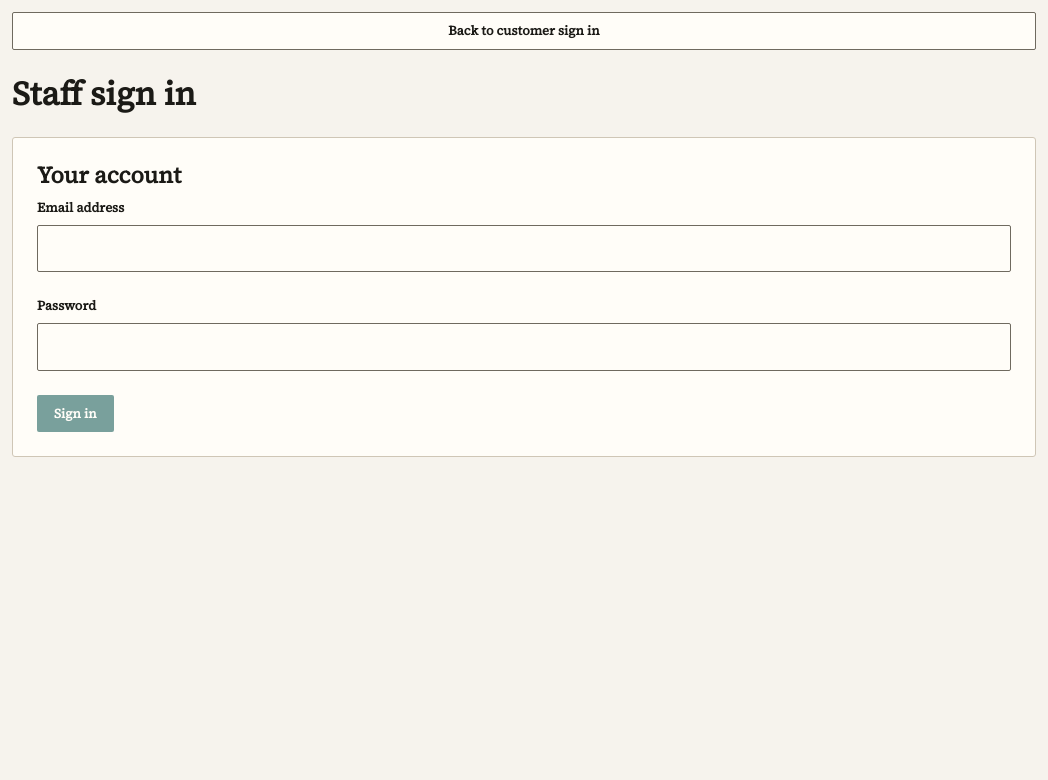
staff sign-in › asks for a code only when the server says one is needed
expect the field labelled "Six-digit code" is not shown: met
Type "admin@csas.local" into the field labelled "Email address" at (524, 248), box [37, 225, 1011, 272]
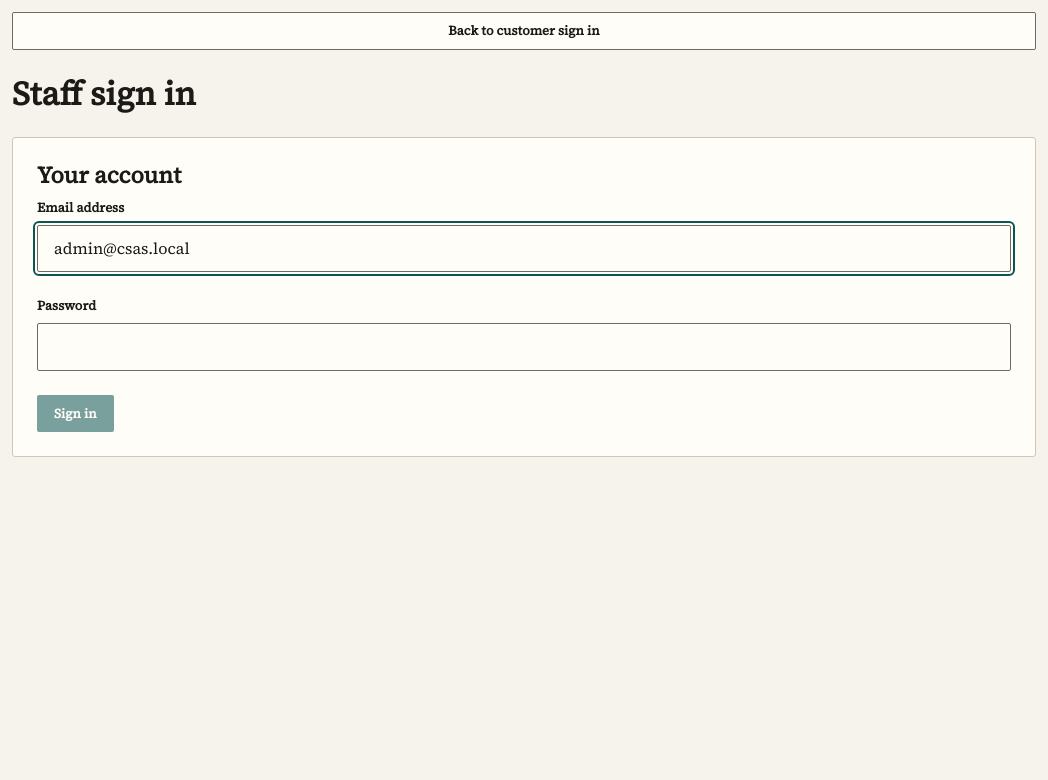
Type "a-password" into the password field labelled "Password" at (524, 347), box [37, 323, 1011, 371]
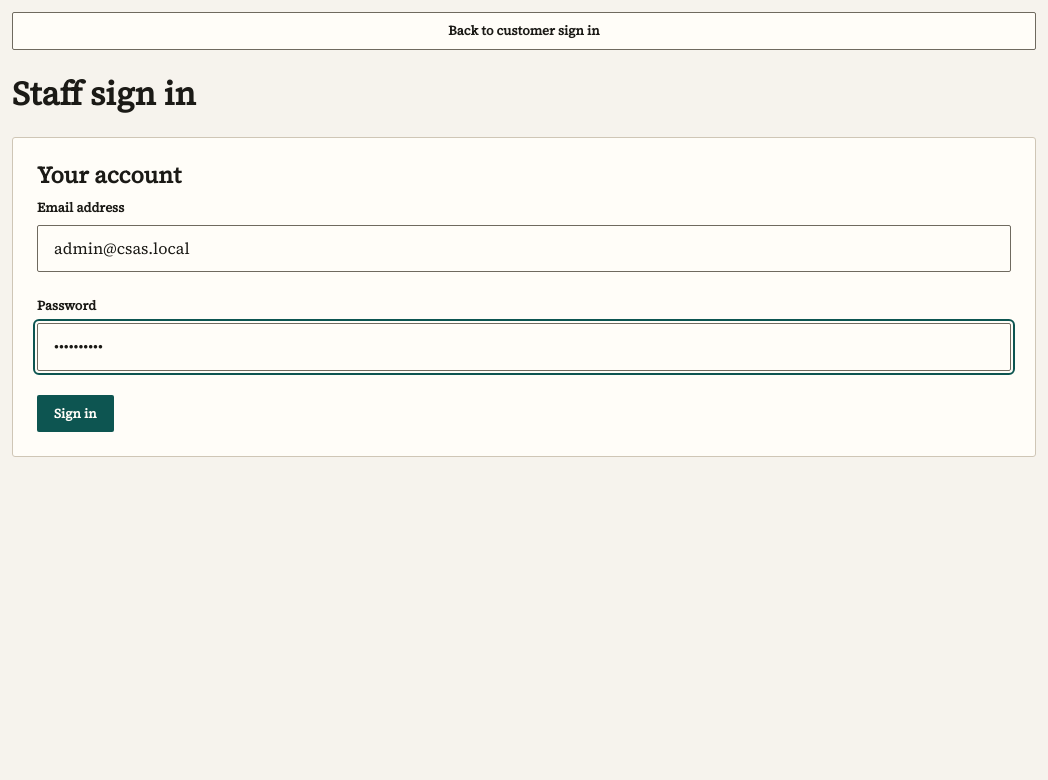
Click the button "Sign in" at (75, 413), box [37, 395, 114, 432]
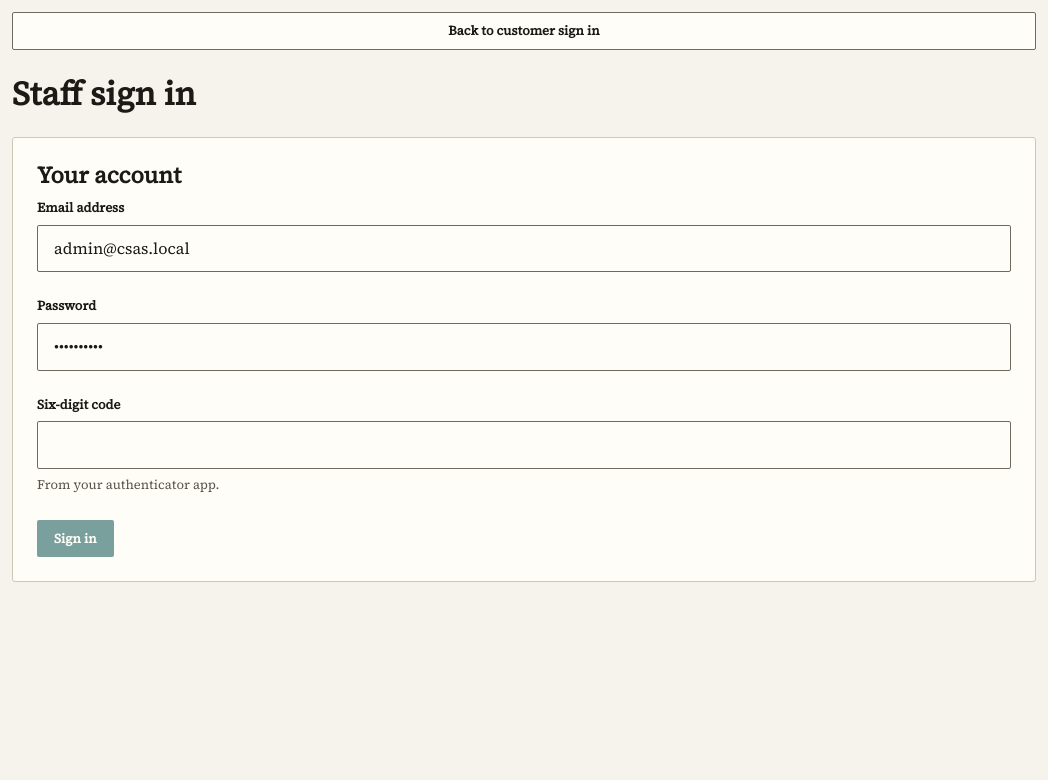
expect the field labelled "Six-digit code" is shown: met, box [37, 421, 1011, 469]
